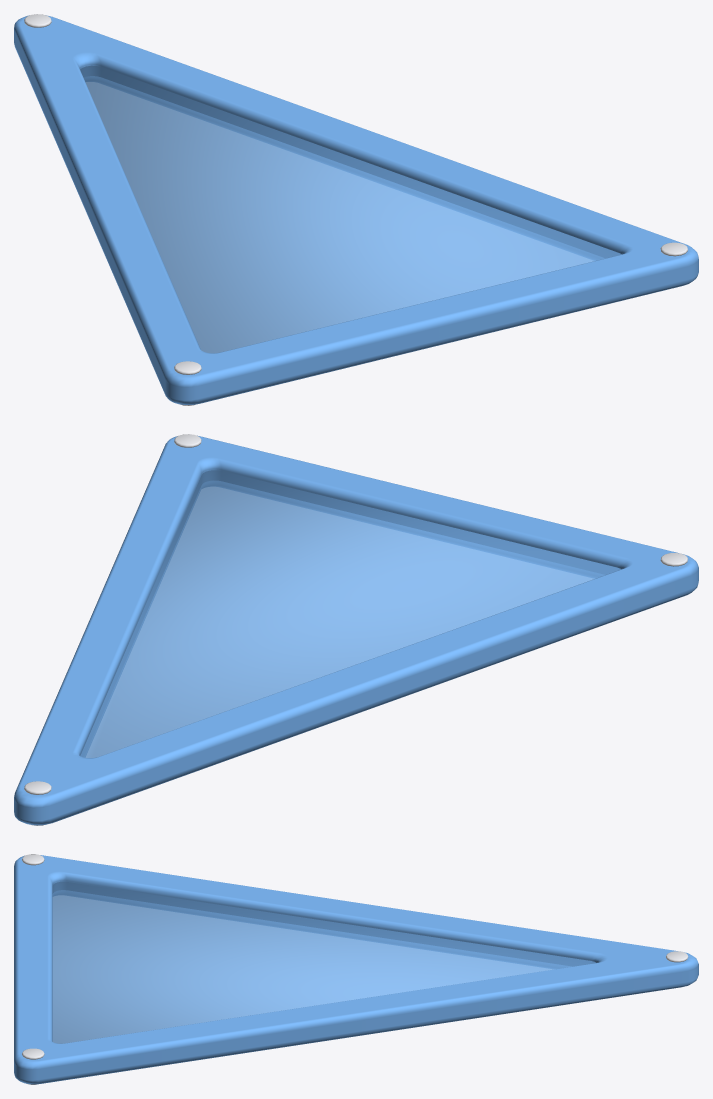
File: tall.glb
3 views of the same model, one above another, from view 1: azimuth 30°, elevation 25°; view 2: azimuth 150°, elevation 25°; view 3: azimuth 270°, elevation 25° (orthographic). The views are drawn at different scales.
Visible parts, largest first — view 1: Frame, Panel, Rivets; view 2: Frame, Panel, Rivets; view 3: Frame, Panel, Rivets.
Part boxes in pixels (left/top/right/bottom): Frame: left=14, top=15, right=698, bottom=404; Panel: left=80, top=65, right=621, bottom=353; Rivets: left=24, top=14, right=687, bottom=405; Frame: left=14, top=435, right=698, bottom=825; Panel: left=80, top=470, right=620, bottom=757; Rivets: left=24, top=434, right=687, bottom=825; Frame: left=14, top=855, right=698, bottom=1084; Panel: left=52, top=881, right=595, bottom=1043; Rivets: left=22, top=854, right=688, bottom=1084.
Size of the model in its own units: 0.9706 by 0.06 by 1.33.
